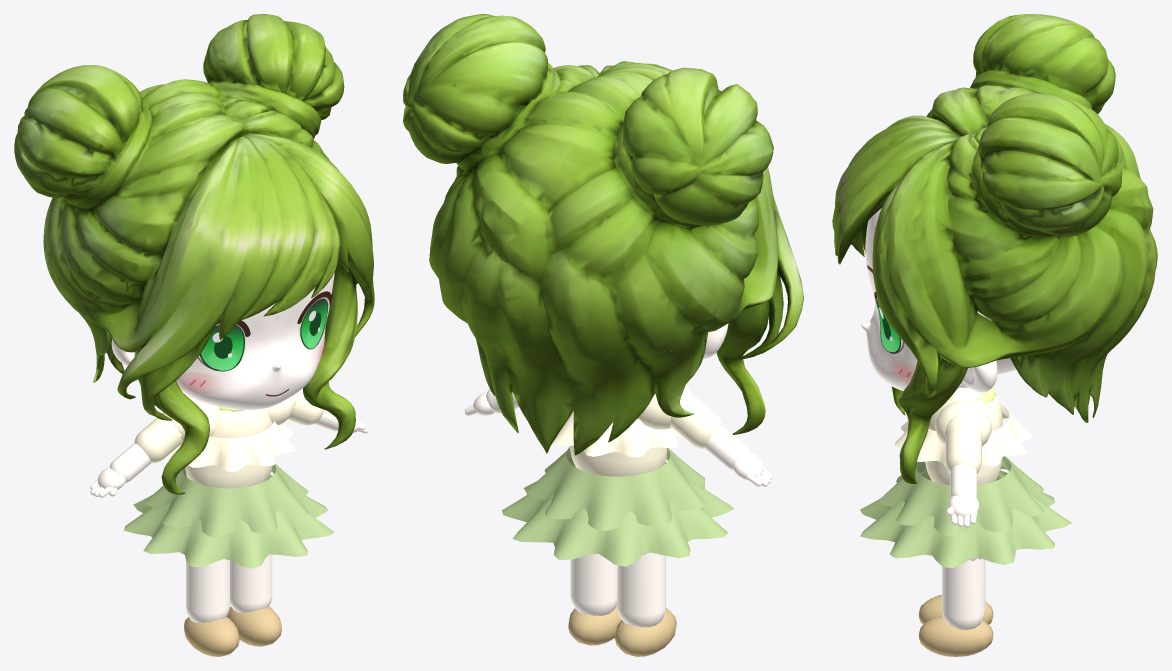
File: leaf.glb
3 renders of one model, left to right at view 1: azimuth 30°, elevation 25°; view 2: azimuth 150°, elevation 25°; view 3: azimuth 270°, elevation 25°, orthographic. The views are drawn at different scales.
Parts seen in each view (by area): view 1: Hair, Upper, HeadSkin, Legs, Head, ArmR, ArmL; view 2: Hair, Upper, Legs, ArmR, ArmL; view 3: Hair, Upper, Legs, HeadSkin, ArmL, Head.
Part boxes in pixels (x1=…): Hair: x1=14, y1=14, x2=374, y2=494; Upper: x1=124, y1=396, x2=333, y2=568; HeadSkin: x1=111, y1=273, x2=334, y2=409; Legs: x1=184, y1=554, x2=281, y2=656; Head: x1=179, y1=291, x2=333, y2=396; ArmR: x1=90, y1=412, x2=182, y2=497; ArmL: x1=287, y1=388, x2=368, y2=433; Hair: x1=403, y1=14, x2=803, y2=455; Upper: x1=502, y1=393, x2=734, y2=566; Legs: x1=568, y1=552, x2=676, y2=656; ArmR: x1=670, y1=386, x2=772, y2=486; ArmL: x1=464, y1=389, x2=519, y2=415; Hair: x1=832, y1=14, x2=1157, y2=483; Upper: x1=860, y1=387, x2=1071, y2=567; Legs: x1=919, y1=558, x2=993, y2=656; HeadSkin: x1=861, y1=208, x2=1016, y2=392; ArmL: x1=945, y1=413, x2=982, y2=527; Head: x1=867, y1=265, x2=914, y2=383.
Bounding box in the file's own units: 1.91 × 3.38 × 1.71.
8 materials, 2 textured.
